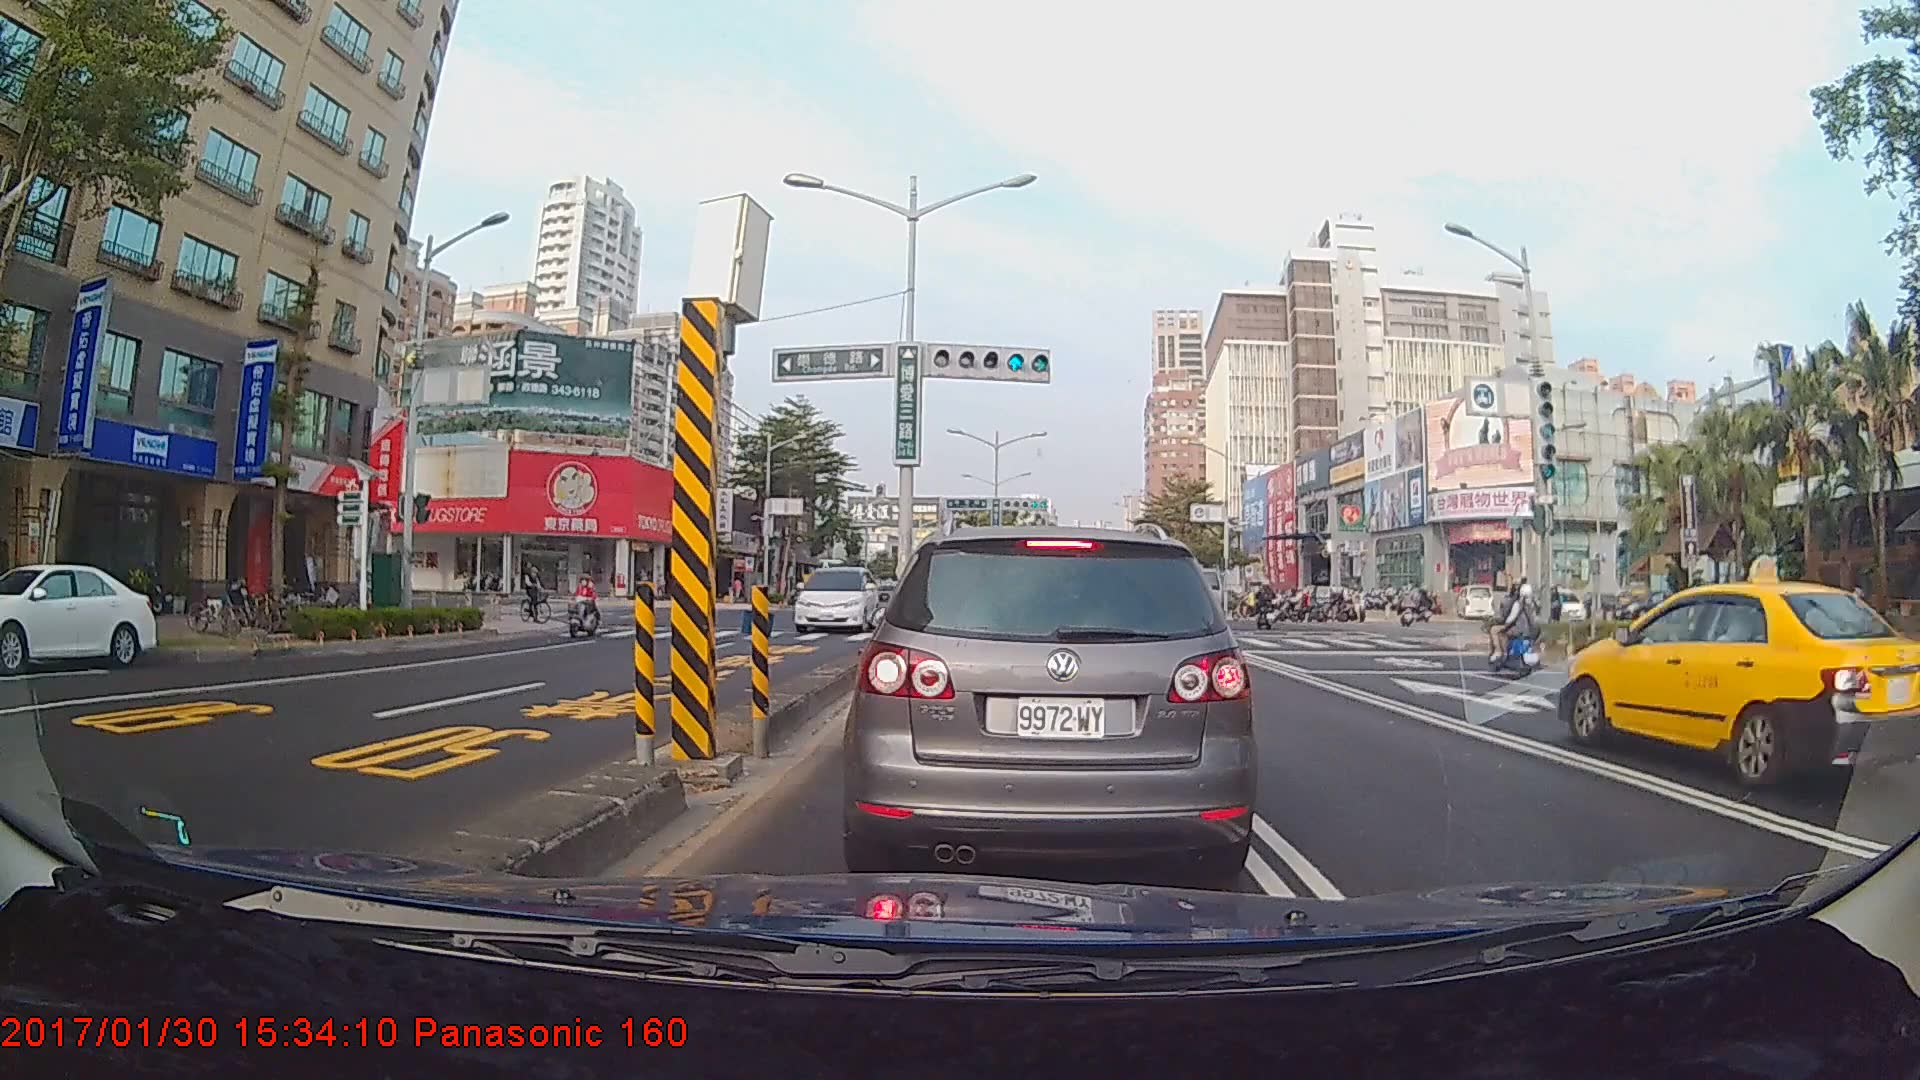pedestrian: (1844, 579, 1871, 652)
rider: (1485, 578, 1547, 682), (518, 559, 561, 629), (570, 574, 613, 641), (1253, 580, 1283, 633)
vehicle: (852, 523, 1252, 877), (1558, 574, 1920, 791), (0, 561, 159, 671), (793, 565, 880, 633)
